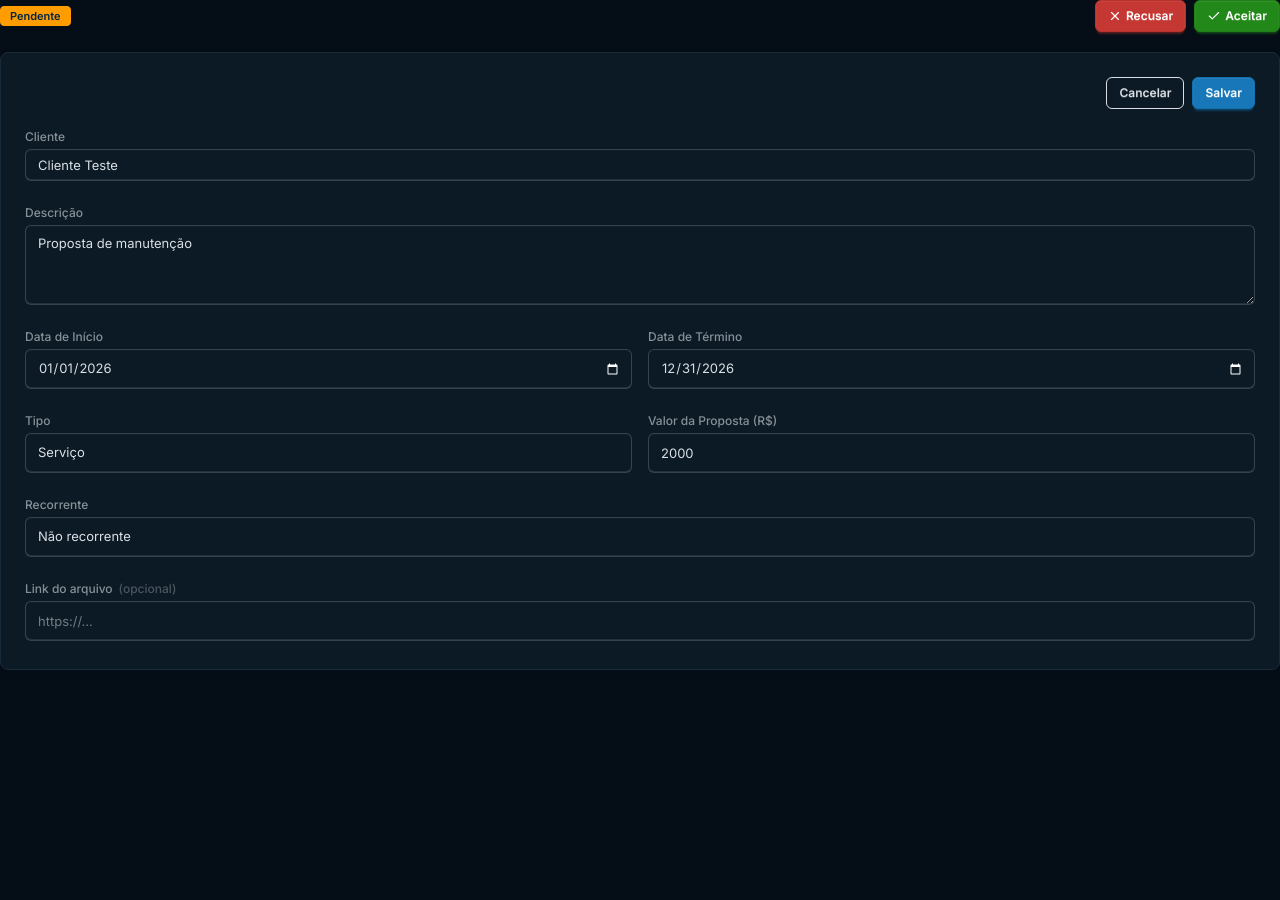
Test: closes the accept modal without accepting when Cancelar is clicked
Click the button "Aceitar" at (1237, 16), box [1194,0,1279,32]
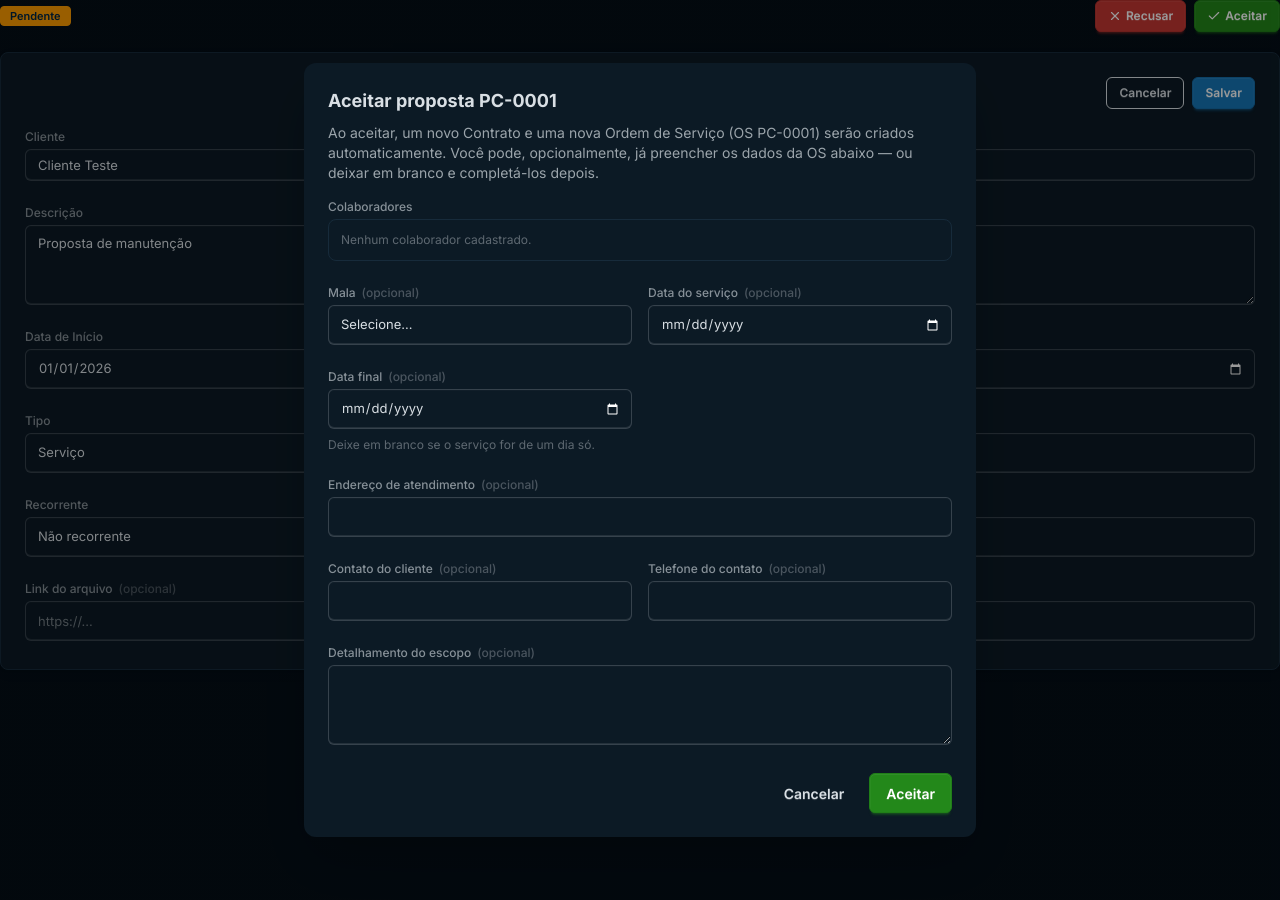
Check: the heading "Aceitar proposta PC-0001" is shown, box [328,90,557,111]
Click the button with class "btn-ghost" at (814, 793), box [767,773,861,813]
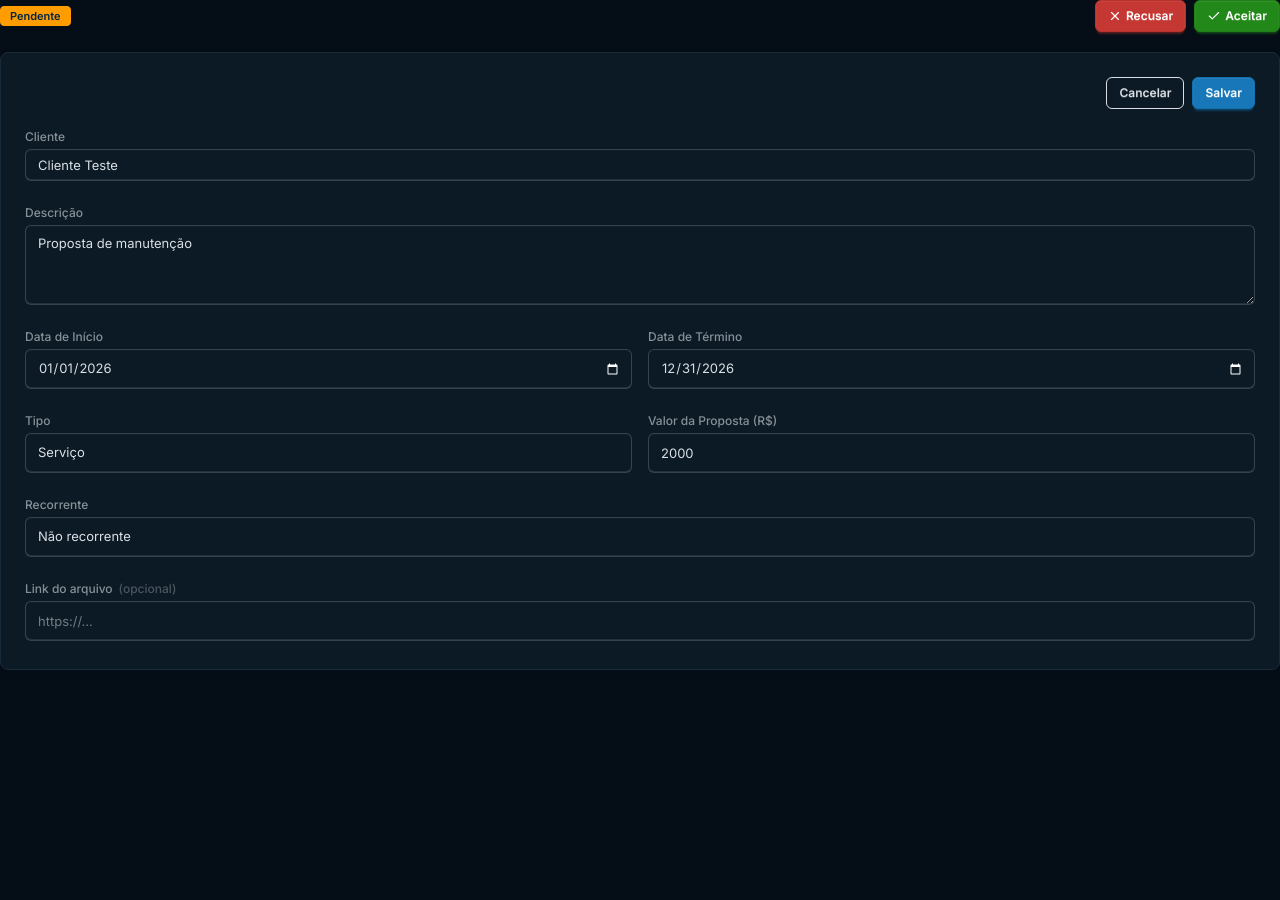
Check: the heading "Aceitar proposta PC-0001" is gone
